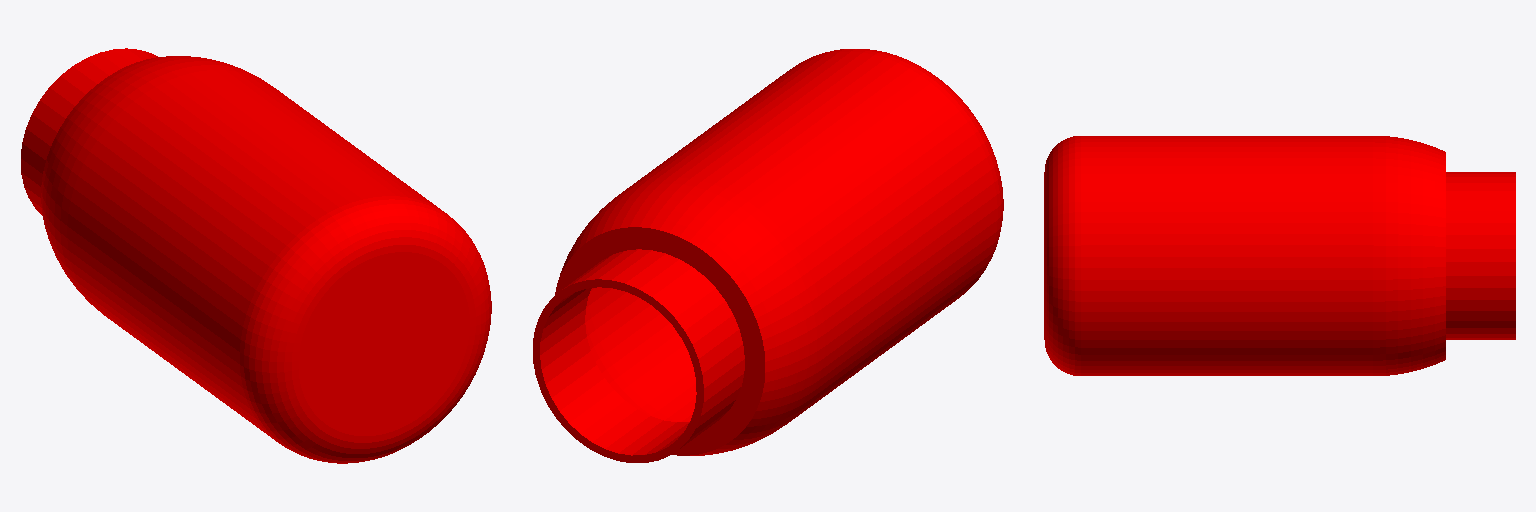
URDF robot description (tumbler):
<?xml version="1.0"?>

<robot name="tumbler">
  
  <link name="tumbler">
    
    <contact>
      <restitution value="1.0e-8" />
      <!-- <lateral_friction value="1"/> -->
      <rolling_friction value="1"/> 
      <spinning_friction value="1"/> 
      <contact_cfm value="0.00001"/>
      <contact_erp value="0.2"/>
    </contact>

    <inertial>
      <origin xyz="0 0 0" />
      <!-- <mass value="0.5" /> -->
      <mass value="1" />
      <!-- <mass value="0.1" /> -->
      <inertia  ixx="1.0" ixy="0.0"  ixz="0.0"  iyy="1.0"  iyz="0.0"  izz="1.0" />
    </inertial>

    <visual>
      <origin xyz="0 0 0"/>
      <!-- <geometry>
        <cylinder radius="0.02" length="0.1"/>
      </geometry> -->
      <geometry>
        <mesh filename="mesh/water_bottle.STL" scale="1.0 1.0 1.0"/>
        <!-- <box size="0.04 0.04 0.1" /> -->
        <!-- <mesh filename="mesh/bottle_body.stl" /> -->
      </geometry>
      <material name="green">
	      <color rgba="1.0 .0 .0 1.0"/>
      </material>
    </visual>
    
    <collision>
      <origin xyz="0 0 0"/>
      <!-- <geometry>
        <cylinder radius="0.02" length="0.1"/>
      </geometry> -->
      <geometry>
        <mesh filename="mesh/water_bottle.STL" scale="1.0 1.0 1.0"/>
        <!-- <box size="0.04 0.04 0.1" /> -->
        <!-- <mesh filename="mesh/bottle_body.stl" /> -->
      </geometry>
    </collision>
  </link>


</robot>

--- Facts derived from the render (not from the file) ---
Views: 3 orthographic renders of the robot side by side, from view 1: azimuth 30°, elevation 25°; view 2: azimuth 150°, elevation 25°; view 3: azimuth 270°, elevation 25°.
Model tumbler with 1 links and 0 joints (none), rooted at tumbler, posed every joint at zero.
Links seen in each view (by area): view 1: tumbler; view 2: tumbler; view 3: tumbler.
Boxes of the visible links, left/top/right/bottom form: tumbler: left=21, top=48, right=491, bottom=463; tumbler: left=533, top=49, right=1003, bottom=462; tumbler: left=1044, top=136, right=1515, bottom=375.
Bounding box of the posed robot: 0.0659 × 0.129 × 0.066 m (x, y, z).
Meshes: 1 distinct files referenced, 1 mesh visuals loaded (1 binary STL).